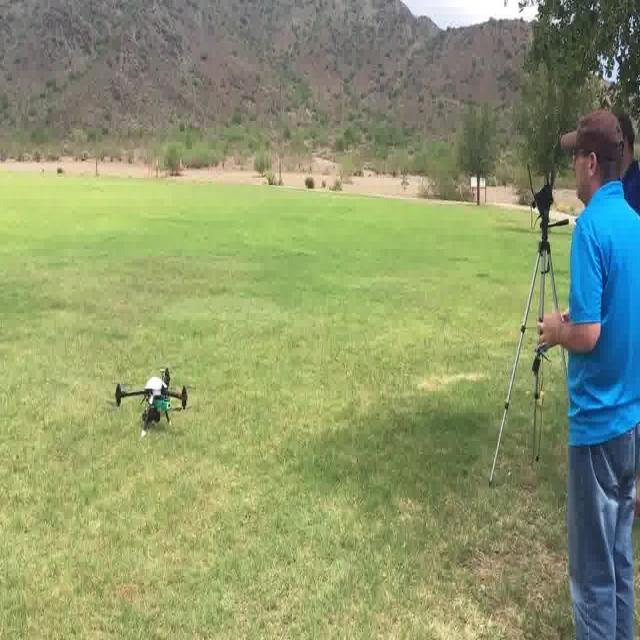drone: (107, 359, 195, 442)
